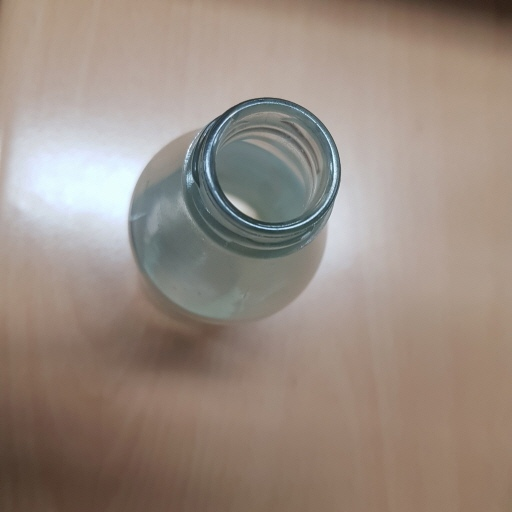Glass_4: (122, 93, 338, 340)
